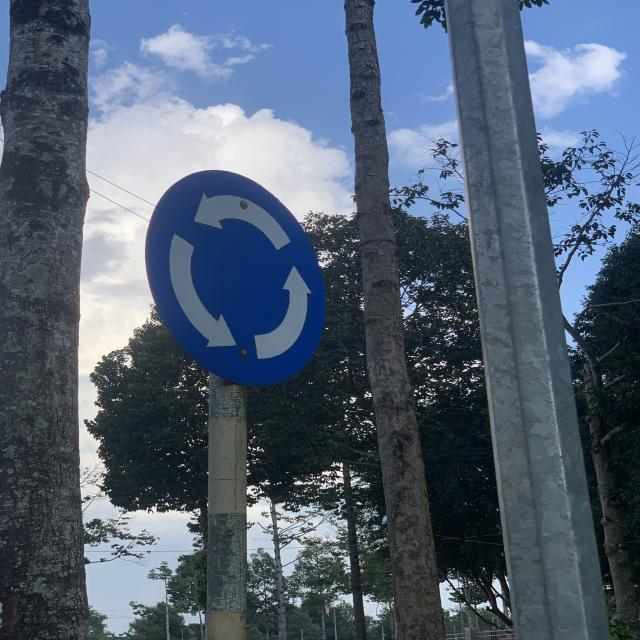Xe_Bus: (147, 169, 331, 387)
